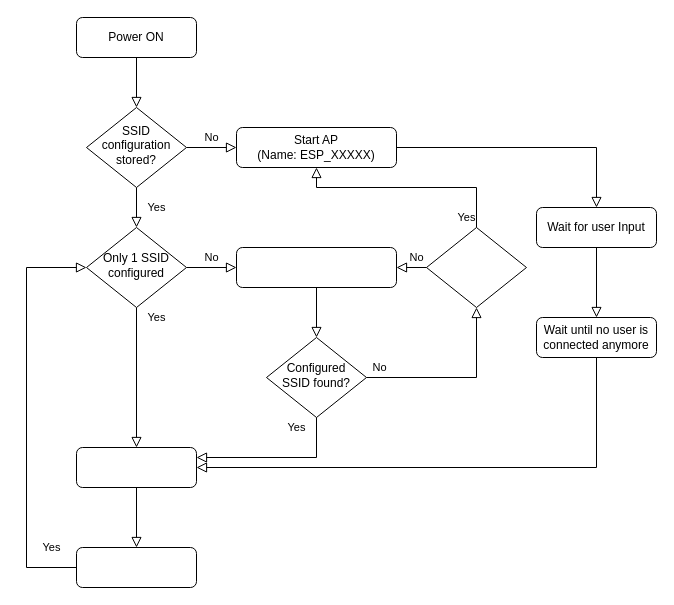
Some shapes in this 674 by 605 pixel diagram are drawn without their labels. The shapes that lost their labels are listed below. From the top down, each one's box as (x1, y1, x2, y2) in pixels, then its label:
(236, 246, 396, 288): Start WIFI Scan to find best available option
(426, 226, 526, 308): Fallback to softAP enabled?
(76, 446, 196, 488): Connect to the known WIFI Network
(76, 546, 196, 588): Disconnected from WIFI network
